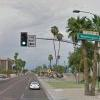Traffic light: (13, 24, 36, 56)
